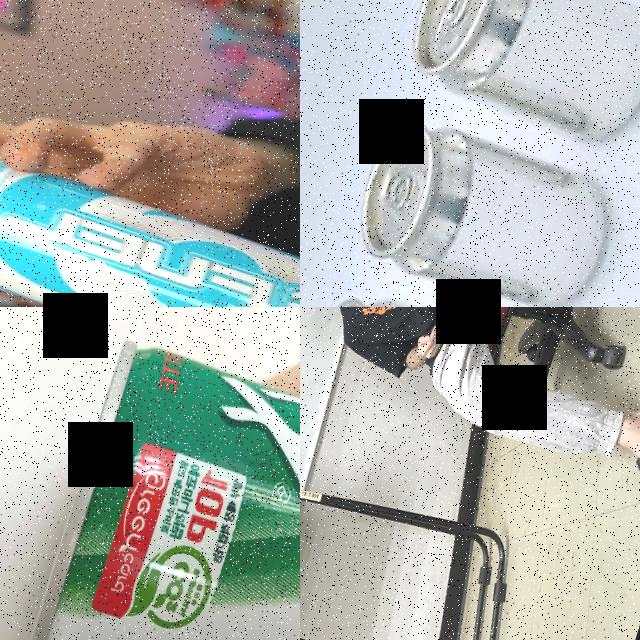can: (14, 335, 300, 640), (349, 107, 625, 307), (0, 136, 300, 307), (400, 0, 640, 158)
